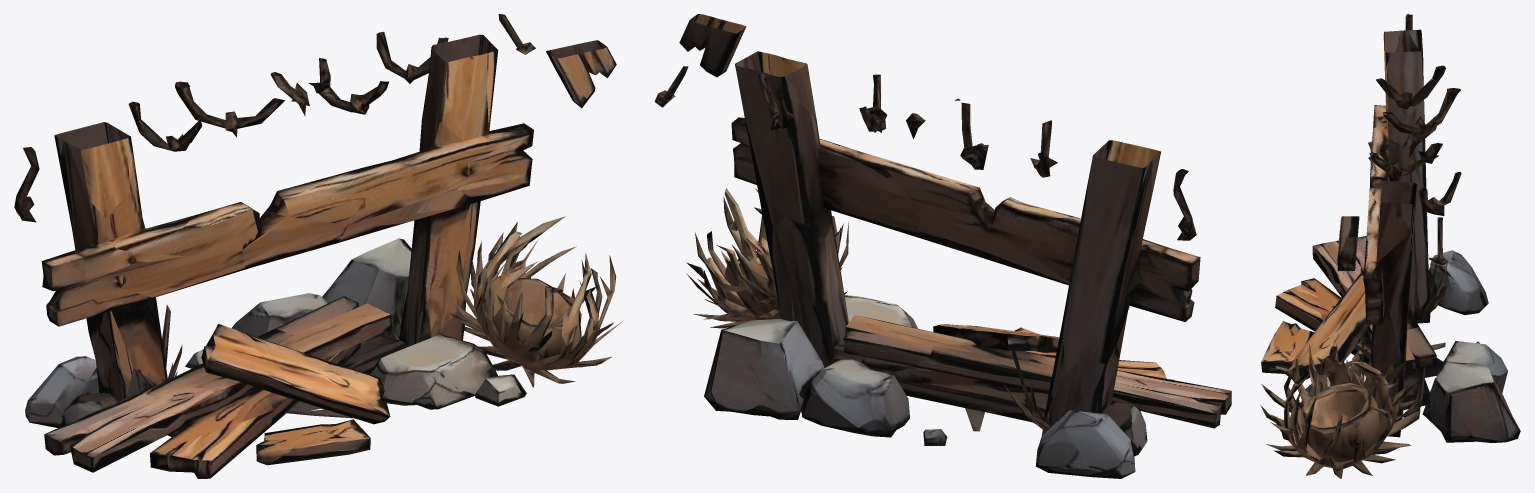
Rendered from covers_cloture.glb.
3 renders of one model, left to right at view 1: azimuth 30°, elevation 25°; view 2: azimuth 150°, elevation 25°; view 3: azimuth 270°, elevation 25°, orthographic. The views are drawn at different scales.
Visible parts, largest first — view 1: wl_fence_broken; view 2: wl_fence_broken; view 3: wl_fence_broken.
Boxes of the visible parts, x1=… form: wl_fence_broken: x1=14, y1=14, x2=623, y2=478; wl_fence_broken: x1=654, y1=14, x2=1231, y2=478; wl_fence_broken: x1=1260, y1=14, x2=1520, y2=478.
Size of the model in its own units: 2.13 by 1.1 by 1.02.
Materials: 1 (1 with a texture image).
